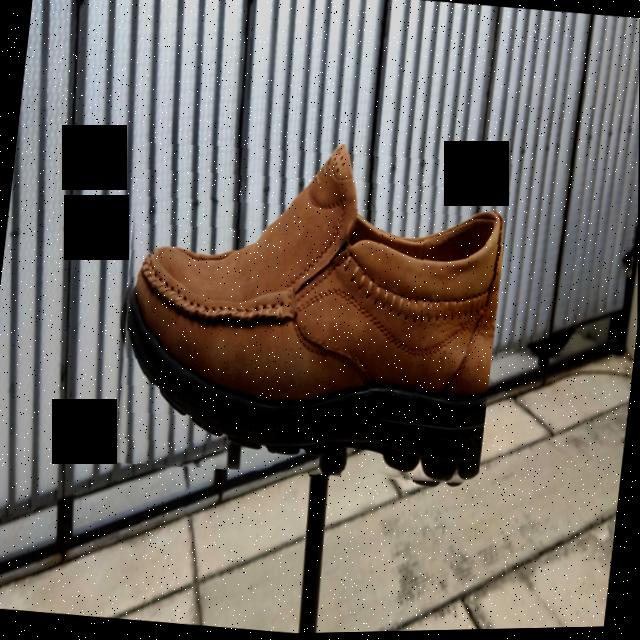shoe: (103, 122, 514, 501)
